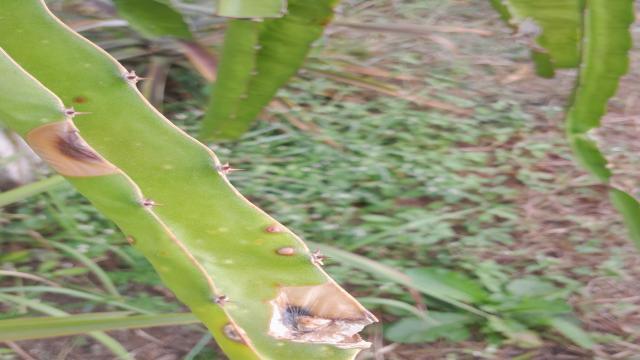stemcanker: (214, 319, 248, 345), (270, 243, 299, 258), (258, 224, 291, 236)
